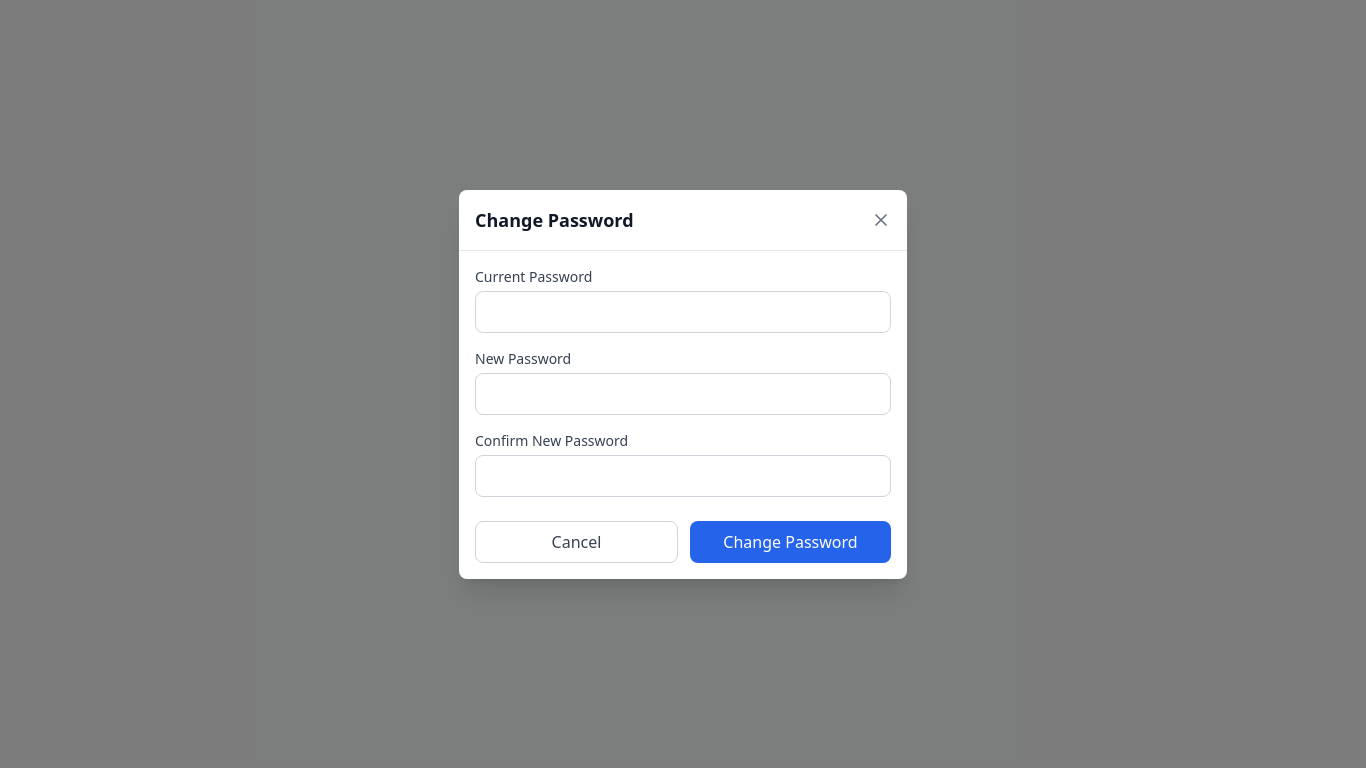
PasswordChangeModal › shows error on wrong current password
Step 1. Type "wrongpass" into the password field labelled "Current Password" → (683, 312), box [475,290,891,332]
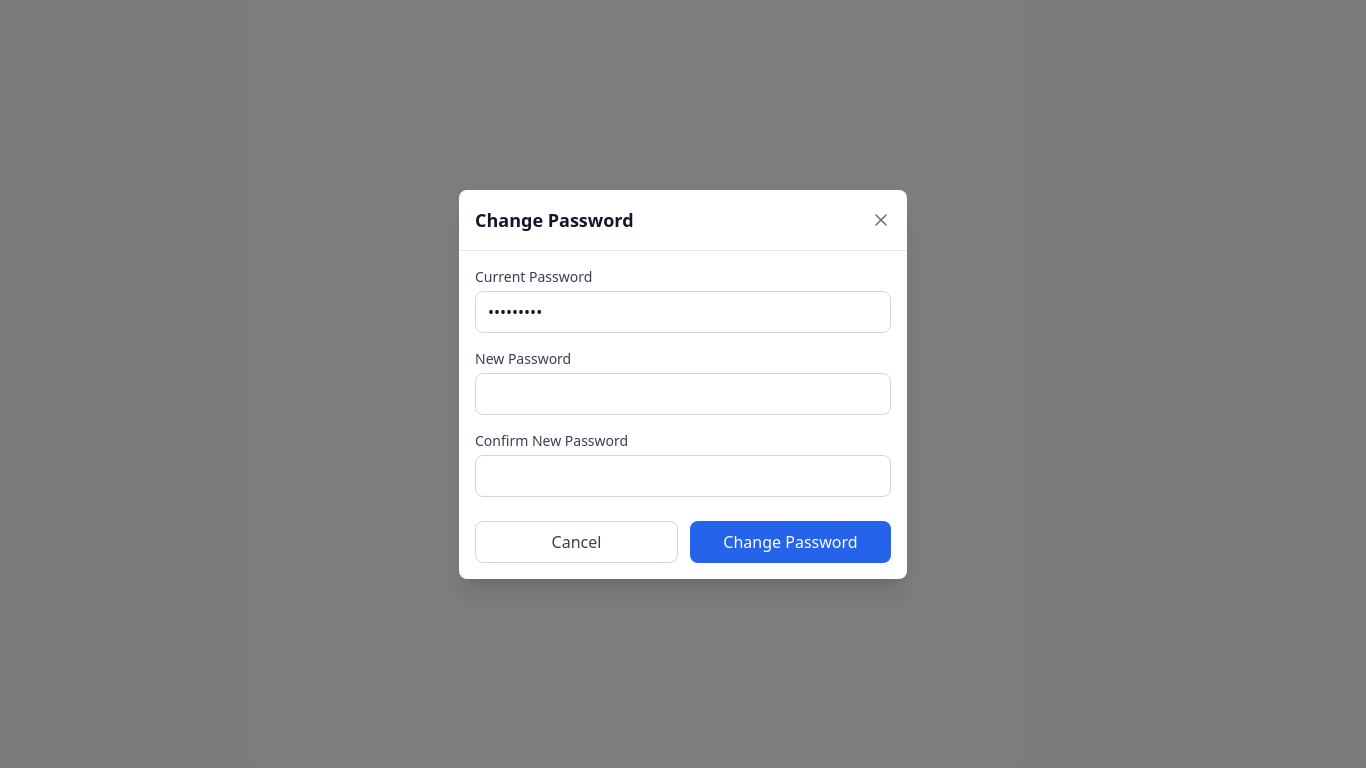
Step 2. Type "newpass123" into the password field labelled "New Password" → (683, 394), box [475,372,891,414]
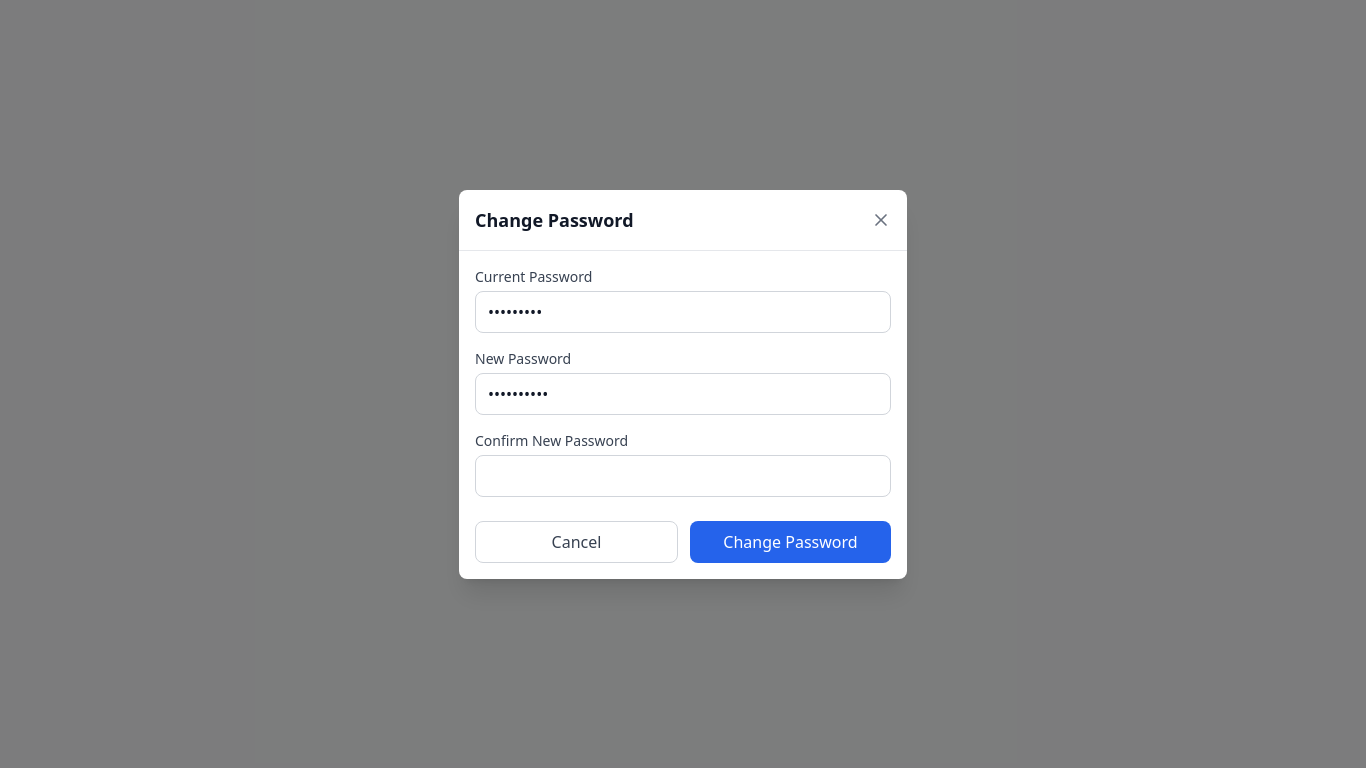
Step 3. Type "newpass123" into the password field labelled "Confirm New Password" → (683, 476), box [475,454,891,496]
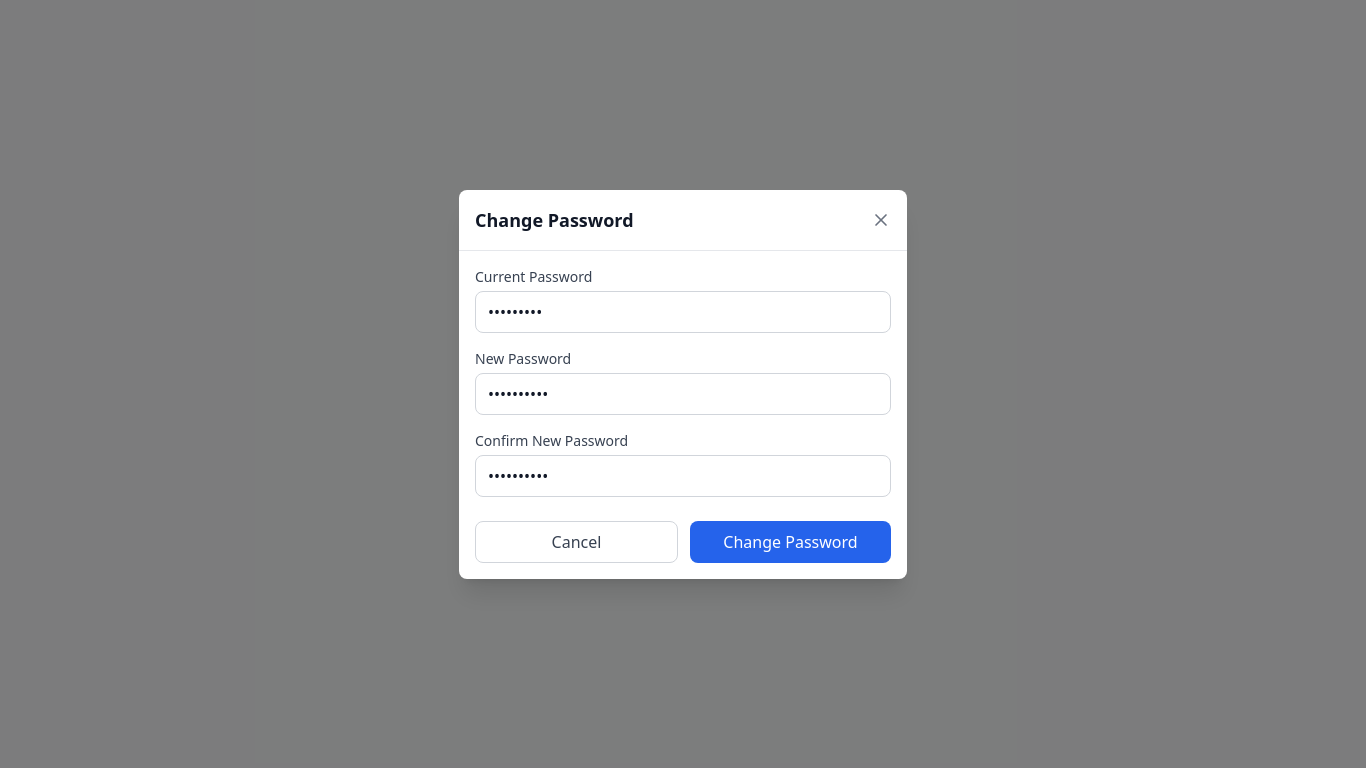
Step 4. Click the button "Change Password" → (790, 542), box [690,520,891,562]
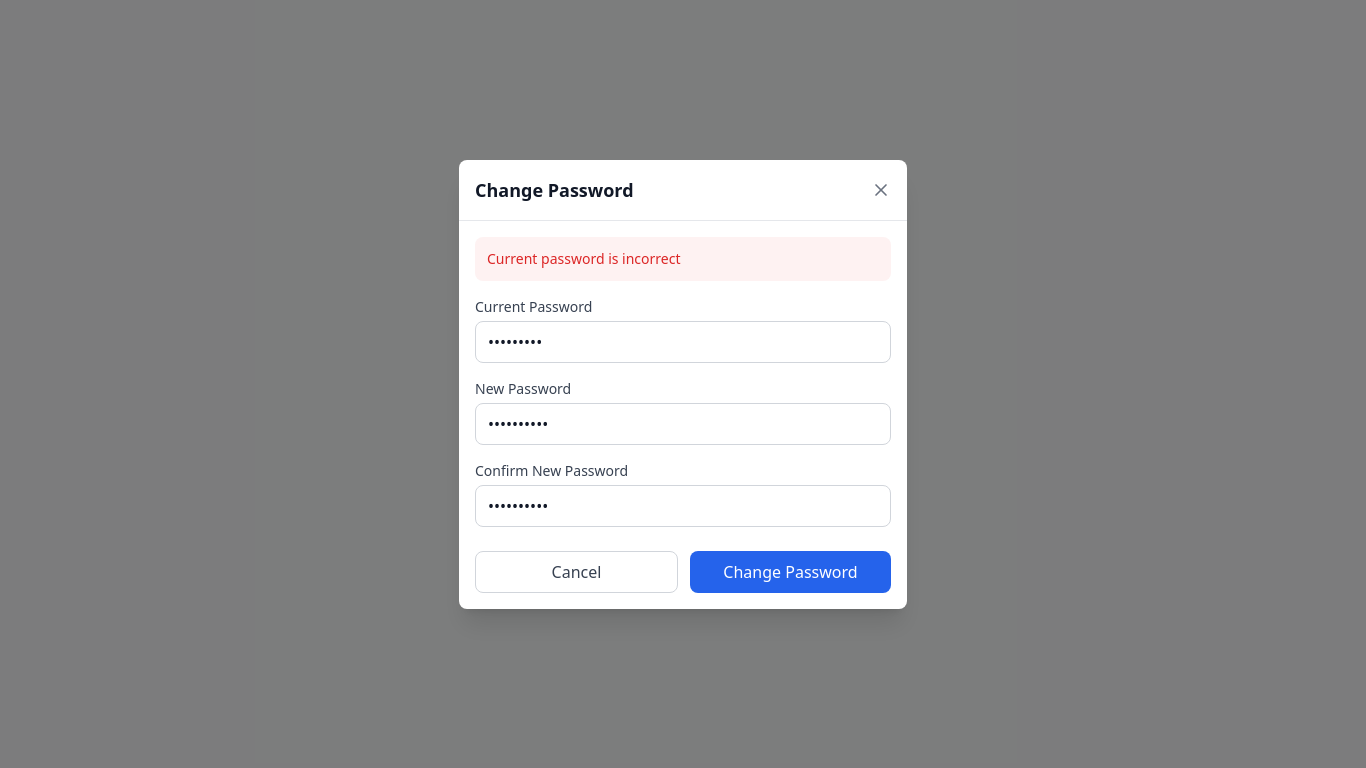
Result: the text "Current password is incorrect" is shown at [475,236,891,280]
